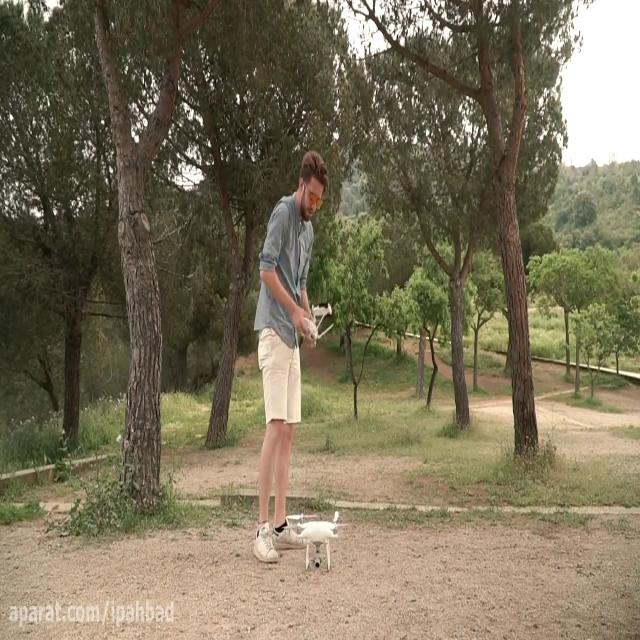drone: (286, 505, 346, 573)
